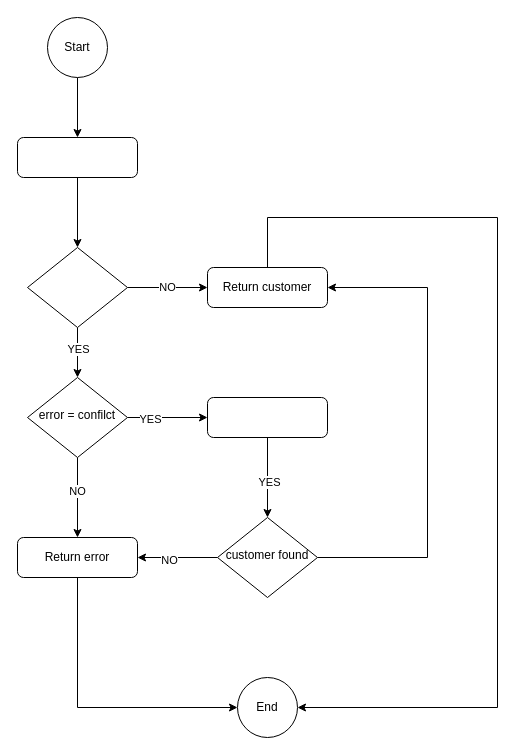
Some shapes in this 523 by 755 pixel diagram are drawn without their labels. The shapes that lost their labels are listed below. From the top down, each one's centre as x and y in pixels, then its label:
the point at 77,157: Create a customer
the point at 77,287: Is there error
the point at 267,417: GET the customer
